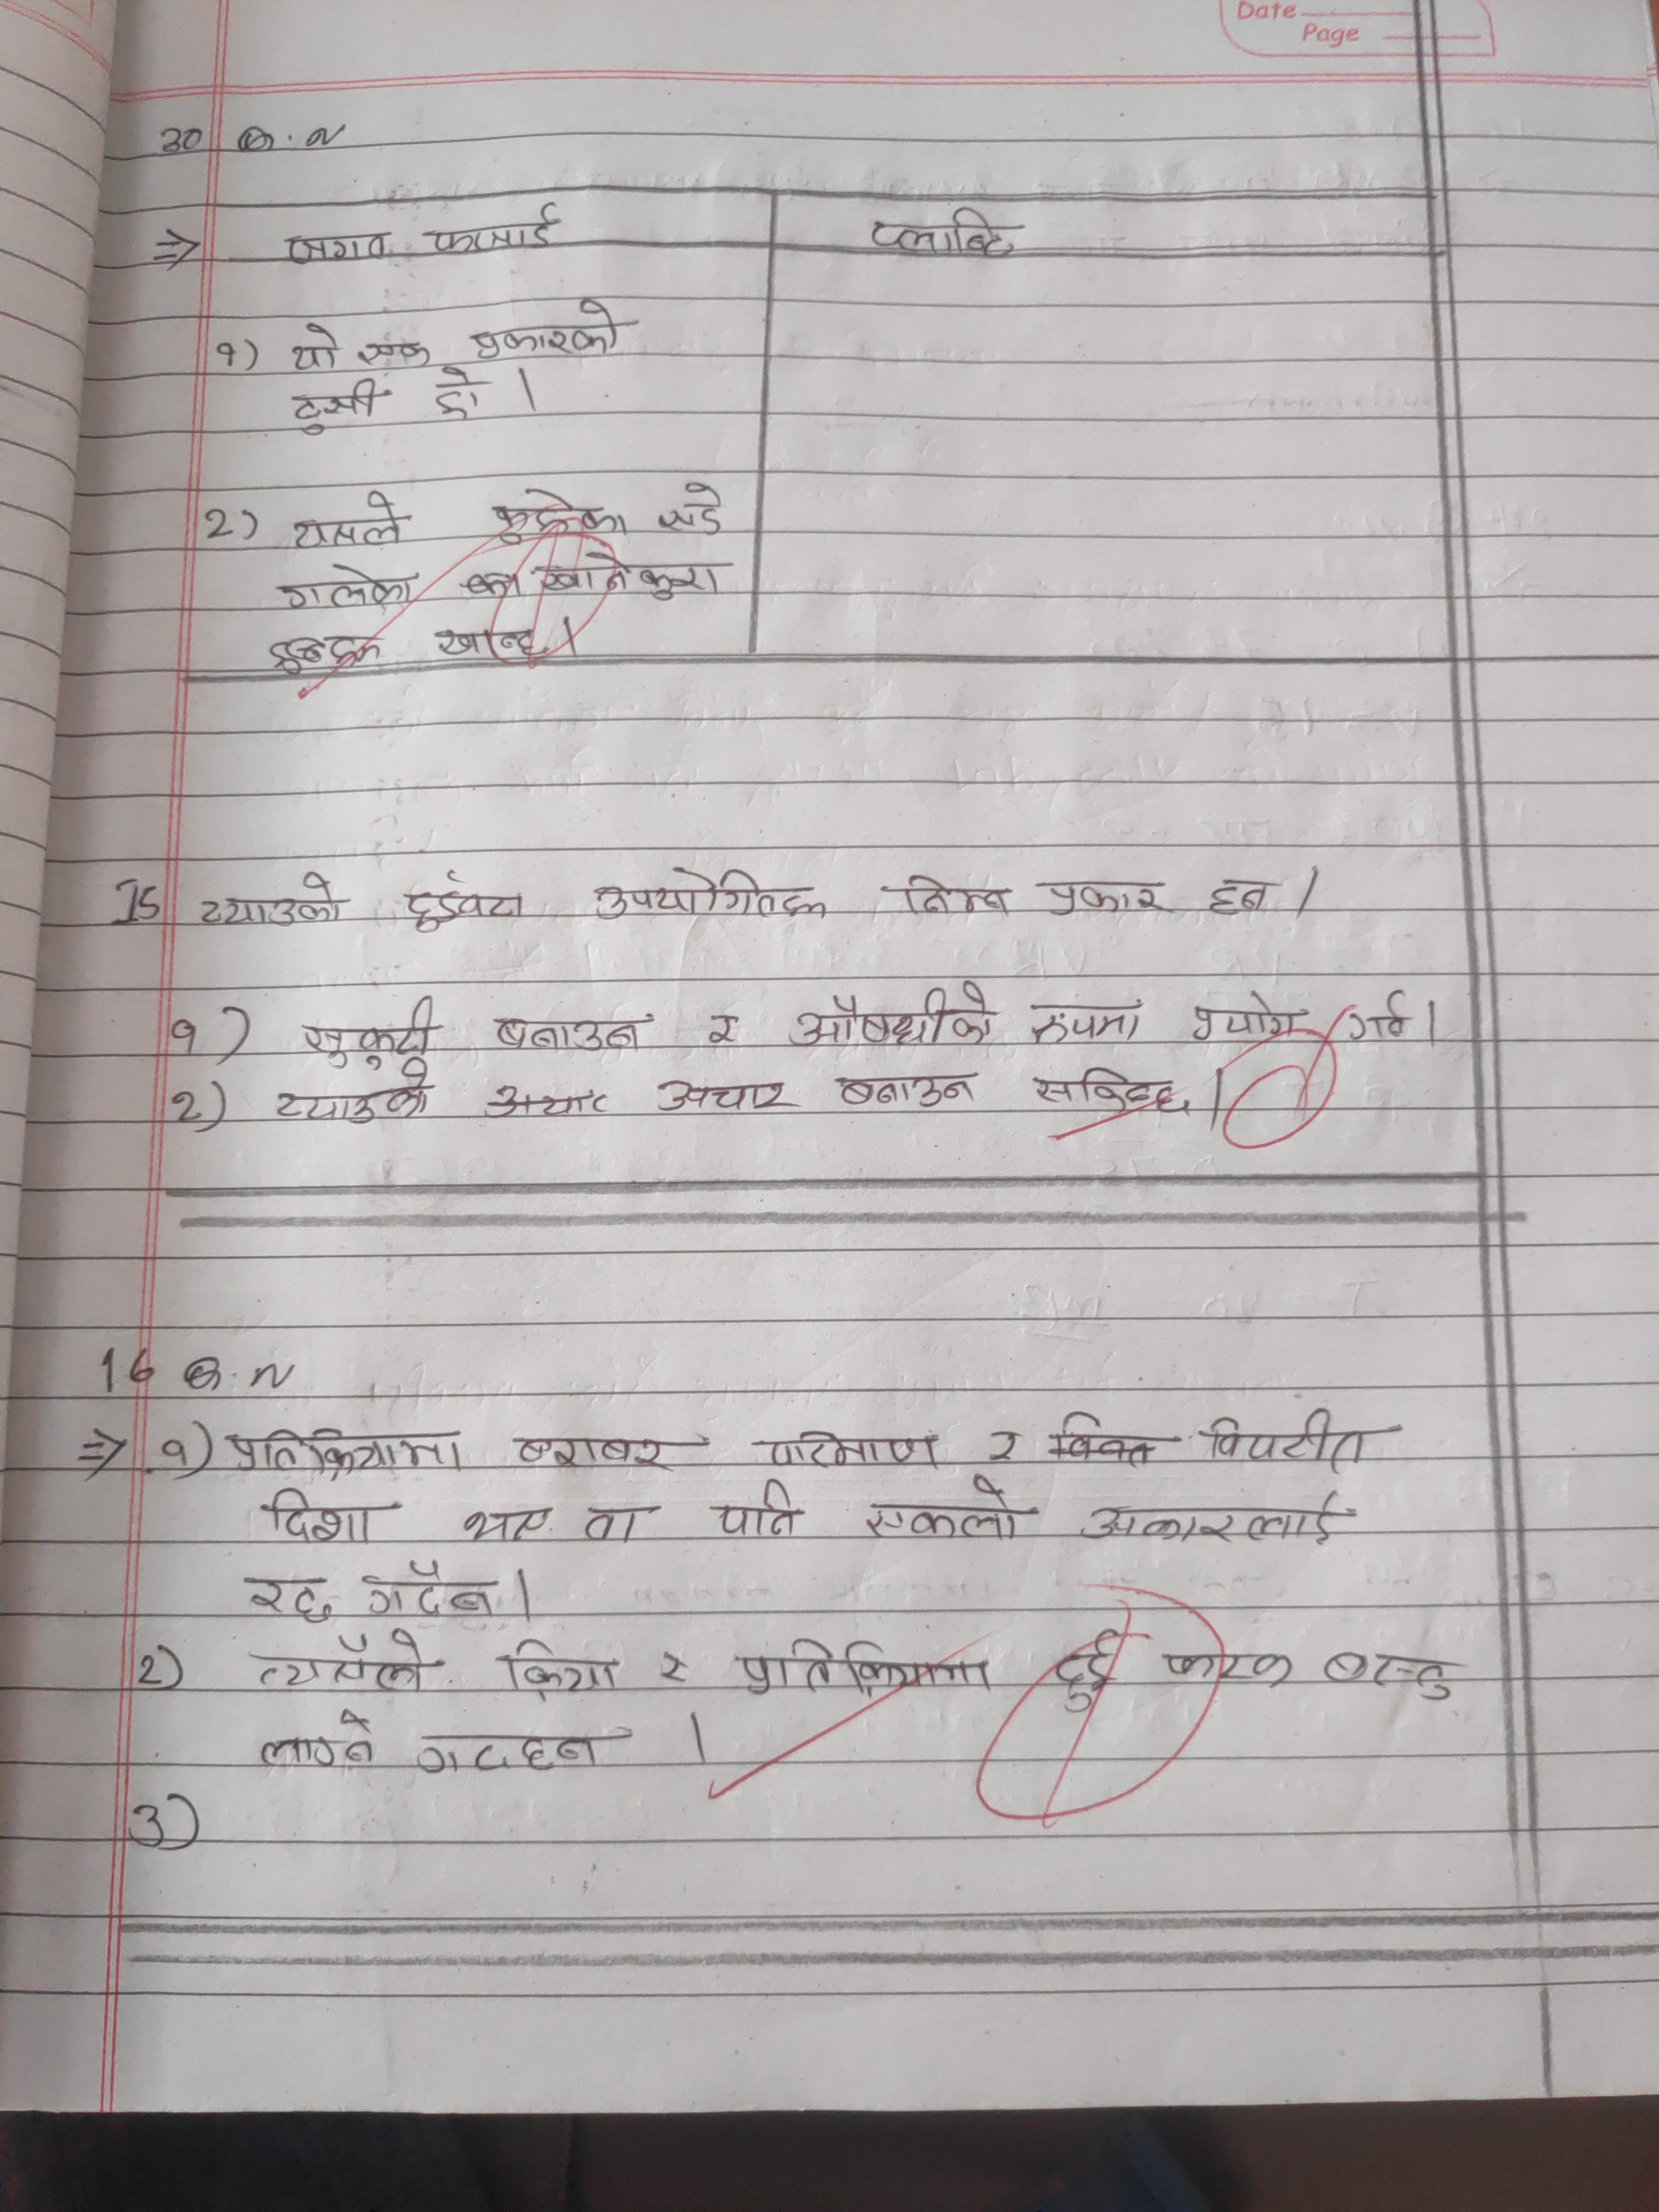text: (734, 1632, 1002, 1696), (1072, 1489, 1352, 1550), (221, 1418, 465, 1479), (788, 979, 997, 1049), (601, 866, 824, 930), (861, 1472, 1028, 1545), (298, 988, 441, 1068), (528, 550, 727, 606), (469, 296, 627, 366), (1201, 1407, 1375, 1468), (410, 1726, 612, 1778), (251, 1634, 429, 1691), (1023, 1062, 1194, 1120), (200, 867, 349, 934), (753, 1426, 953, 1475), (268, 1064, 434, 1122), (870, 206, 1021, 263), (401, 869, 530, 935), (504, 1428, 699, 1472), (498, 1642, 626, 1709), (261, 1486, 385, 1552), (260, 1710, 378, 1777), (1314, 1648, 1464, 1700), (293, 488, 408, 554), (493, 489, 626, 547), (362, 1562, 498, 1618), (423, 202, 563, 254), (272, 563, 420, 611), (488, 1014, 647, 1059), (1014, 995, 1150, 1047), (1164, 1642, 1300, 1693), (1032, 874, 1175, 920), (833, 1069, 979, 1111), (1185, 993, 1309, 1040), (647, 1075, 791, 1115), (711, 1479, 803, 1541), (268, 634, 387, 683), (293, 374, 380, 441), (1061, 1629, 1124, 1719), (894, 873, 1014, 920), (242, 1573, 342, 1629), (437, 620, 549, 669), (277, 230, 399, 273), (455, 1496, 558, 1547), (1344, 984, 1424, 1049), (650, 484, 728, 540), (580, 1498, 653, 1548), (427, 362, 488, 418), (282, 322, 345, 376), (1202, 873, 1276, 918), (697, 1007, 755, 1061), (650, 1644, 701, 1693), (985, 1425, 1026, 1468), (357, 341, 427, 366)
